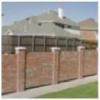chimneys: (57, 6, 64, 20)
